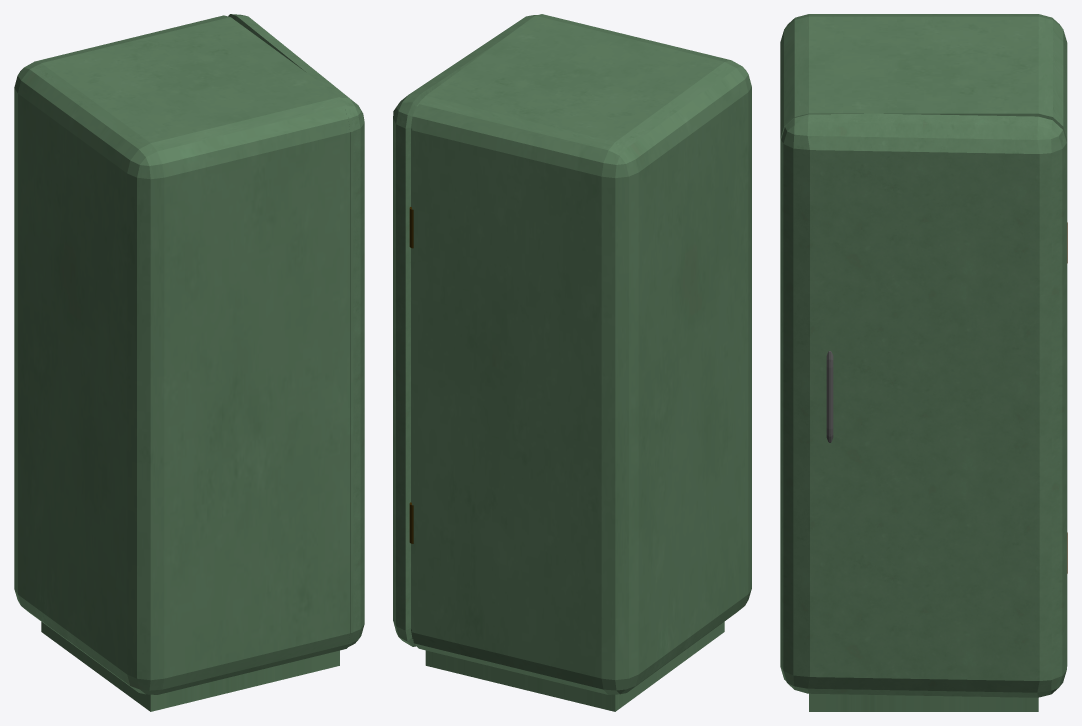
Rendered from fridge.glb.
The picture shows the model from 3 angles, left to right: view 1: azimuth 30°, elevation 25°; view 2: azimuth 150°, elevation 25°; view 3: azimuth 270°, elevation 25°; orthographic projection. The views are drawn at different scales.
Parts seen in each view (by area): view 1: FRIDGE.001, FRIDGE.002; view 2: FRIDGE.001, FRIDGE.002; view 3: FRIDGE.002, FRIDGE.001.
Part boxes in pixels (<box>): FRIDGE.001: <box>14,15,353,711</box>; FRIDGE.002: <box>228,14,364,648</box>; FRIDGE.001: <box>409,14,751,711</box>; FRIDGE.002: <box>393,15,536,646</box>; FRIDGE.002: <box>781,113,1066,697</box>; FRIDGE.001: <box>780,14,1067,711</box>.
Size of the model in its own units: 1.62 by 3.61 by 1.57.
6 materials, 2 textured.
